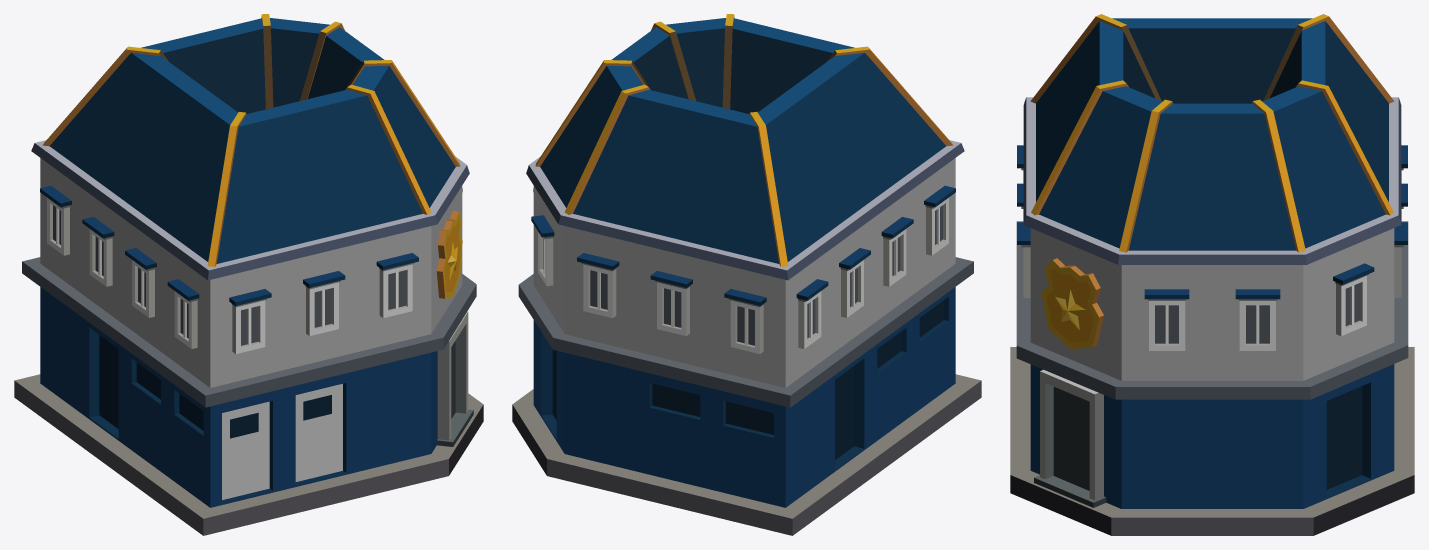
The model's file is TB_CITY_Uniq_PoliceStation.FBX.
3 views of the same model, side by side, from view 1: azimuth 30°, elevation 25°; view 2: azimuth 150°, elevation 25°; view 3: azimuth 270°, elevation 25° (orthographic). The views are drawn at different scales.
Visible parts, largest first — view 1: TB_CITY_Uniq_PoliceStation; view 2: TB_CITY_Uniq_PoliceStation; view 3: TB_CITY_Uniq_PoliceStation.
Boxes of the visible parts, x1,y1,x2,y2 form: TB_CITY_Uniq_PoliceStation: [14, 14, 483, 535]; TB_CITY_Uniq_PoliceStation: [512, 14, 981, 535]; TB_CITY_Uniq_PoliceStation: [1010, 14, 1414, 535].
Bounding box in the file's own units: 15.98 × 16.9 × 15.98.
